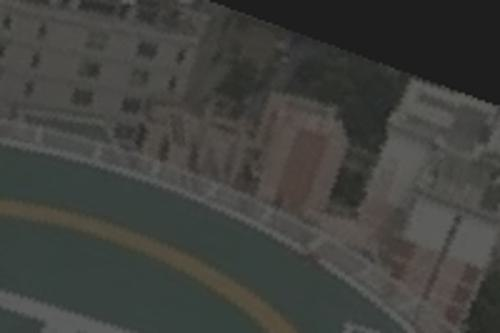Apron: (1, 181, 309, 330)
